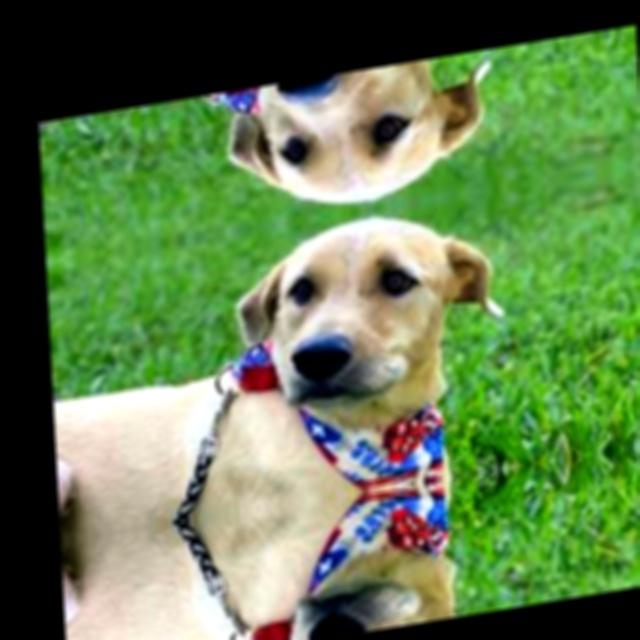dog: (221, 198, 500, 432), (213, 51, 489, 226), (239, 549, 512, 640)
